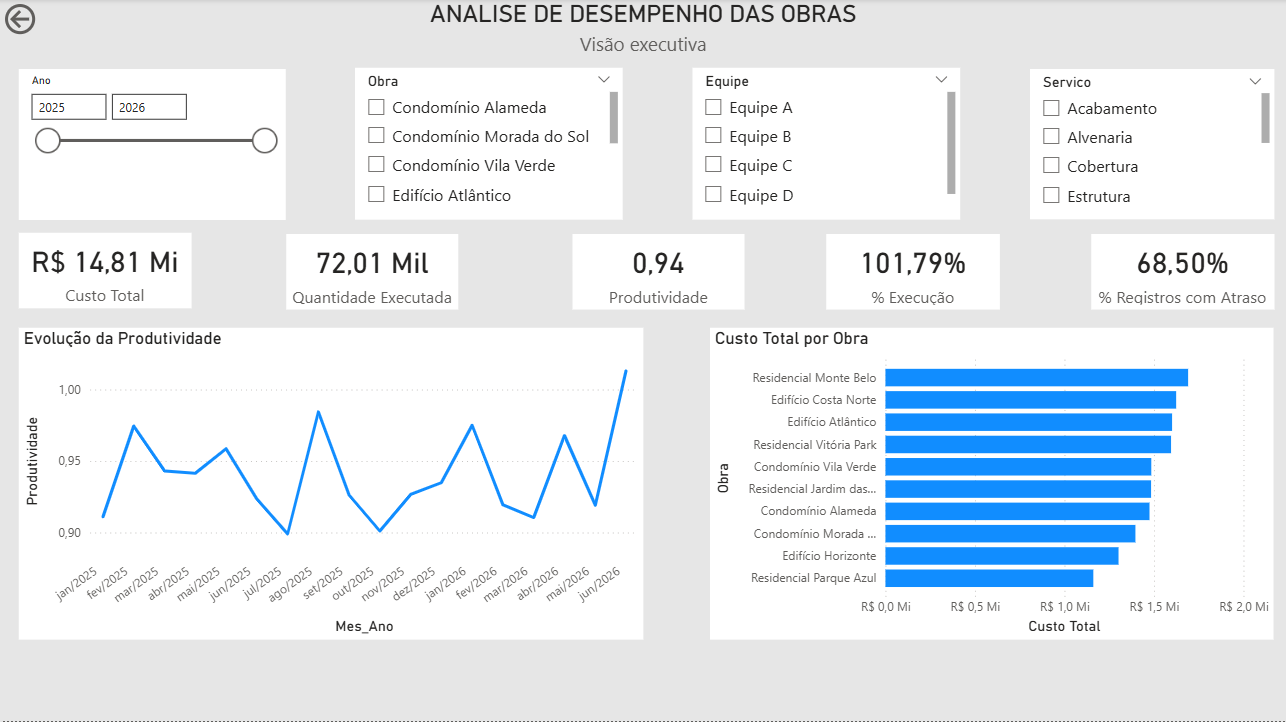

The page's visual inventory and layout, read from the dashboard file:
{"tool":"powerbi","page":{"name":"Visão Executiva","canvas":[1280,720],"ordinal":0},"visuals":[{"type":"card","fields":{"Values":["Fato_Obras.Custo Total"]},"box":[18.2,232.9,171.7,75.5],"z":0},{"type":"card","fields":{"Values":["Fato_Obras.Quantidade Executada"]},"box":[284.6,233.3,171.3,75.5],"z":1000},{"type":"card","fields":{"Values":["Fato_Obras.Produtividade"]},"box":[569.2,233.3,171.3,75.5],"z":3000},{"type":"slicer","fields":{"Values":["Dim_Data.Ano"]},"box":[18.2,70.3,265.4,149.6],"z":7000},{"type":"slicer","fields":{"Values":["Dim_Obra.Obra"]},"box":[353,69,266.7,150.9],"z":8000},{"type":"slicer","fields":{"Values":["Dim_Equipe.Equipe"]},"box":[689.1,69,266.7,150.9],"z":9000},{"type":"slicer","fields":{"Values":["Dim_Servico.Servico"]},"box":[1025.3,70.3,243.3,149.6],"z":10000},{"type":"card","fields":{"Values":["Fato_Obras.% Execução"]},"box":[822.8,233.3,172.6,75.5],"z":11000},{"type":"lineChart","title":"Evolução da Produtividade","fields":{"Y":["Fato_Obras.Produtividade"],"Category":["Dim_Data.Mes_Ano"]},"box":[18.9,327.8,621.8,310.2],"z":12000},{"type":"clusteredBarChart","fields":{"Y":["Fato_Obras.Custo Total"],"Category":["Dim_Obra.Obra"]},"box":[706.8,327.8,561.1,310.2],"z":13000},{"type":"card","fields":{"Values":["Fato_Obras.% Registros com Atraso"]},"box":[1085.8,233.3,182.1,75.5],"z":14000},{"type":"shape","title":"ANALISE DE DESEMPENHO DAS OBRAS","box":[0,0,1280.3,55.9],"z":15000},{"type":"actionButton","box":[0,0,100,40],"z":15002}]}

Visuals, with their boxes in screenshot pixels (x1, y1, x2, y2), scaled from the page's 1280x720 canvas onto the 1286x722 screenshot:
card - Fato_Obras.Custo Total: l=18, t=234, r=191, b=309
card - Fato_Obras.Quantidade Executada: l=286, t=234, r=458, b=310
card - Fato_Obras.Produtividade: l=572, t=234, r=744, b=310
slicer - Dim_Data.Ano: l=18, t=70, r=285, b=221
slicer - Dim_Obra.Obra: l=355, t=69, r=623, b=221
slicer - Dim_Equipe.Equipe: l=692, t=69, r=960, b=221
slicer - Dim_Servico.Servico: l=1030, t=70, r=1275, b=221
card - Fato_Obras.% Execução: l=827, t=234, r=1000, b=310
"Evolução da Produtividade" lineChart: l=19, t=329, r=644, b=640
clusteredBarChart - Fato_Obras.Custo Total x Dim_Obra.Obra: l=710, t=329, r=1274, b=640
card - Fato_Obras.% Registros com Atraso: l=1091, t=234, r=1274, b=310
"ANALISE DE DESEMPENHO DAS OBRAS" shape: l=0, t=0, r=1285, b=56
actionButton: l=0, t=0, r=100, b=40
